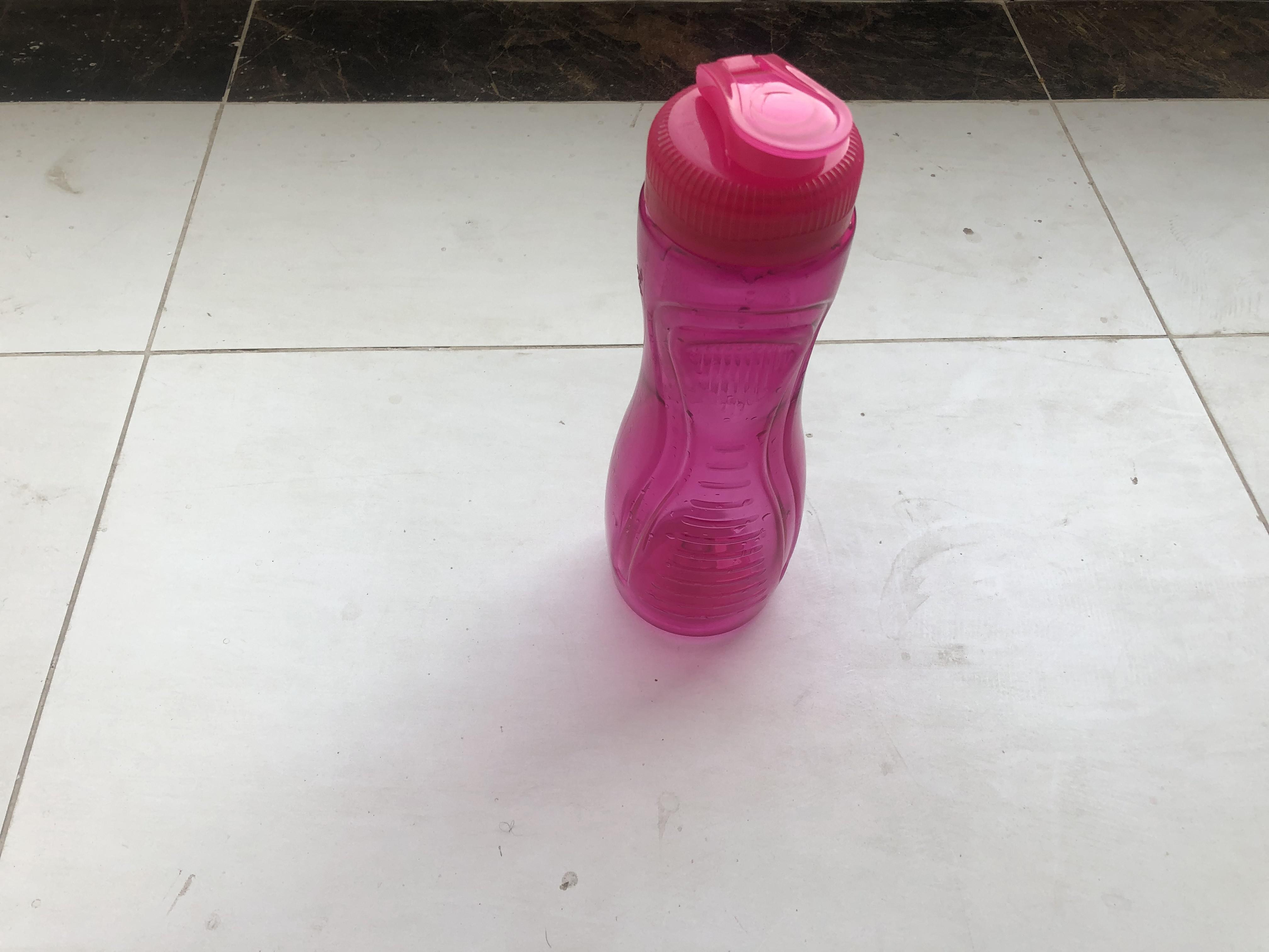gym bottle: (603, 51, 866, 634)
